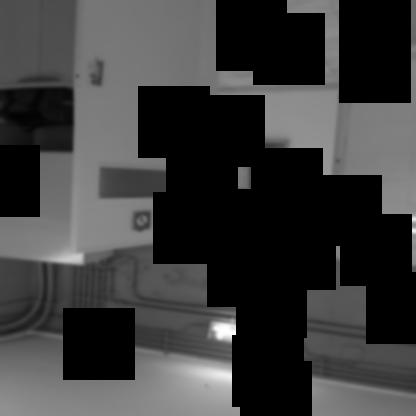Porte: (66, 0, 361, 260)
